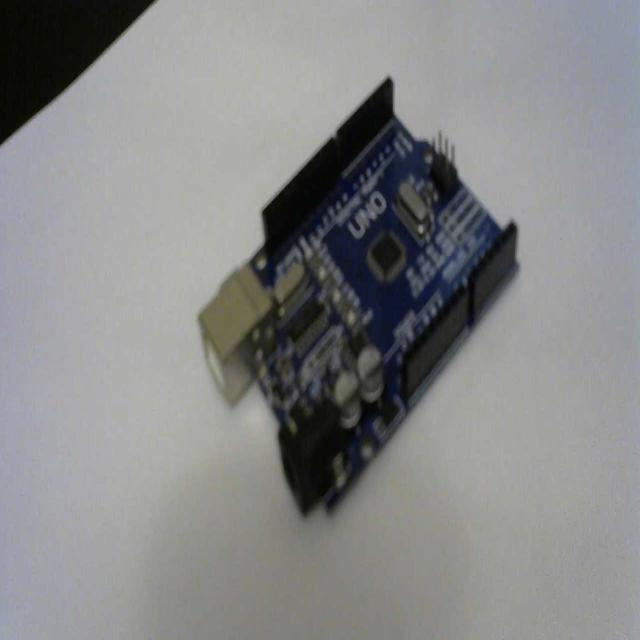arduino: (196, 71, 520, 524)
